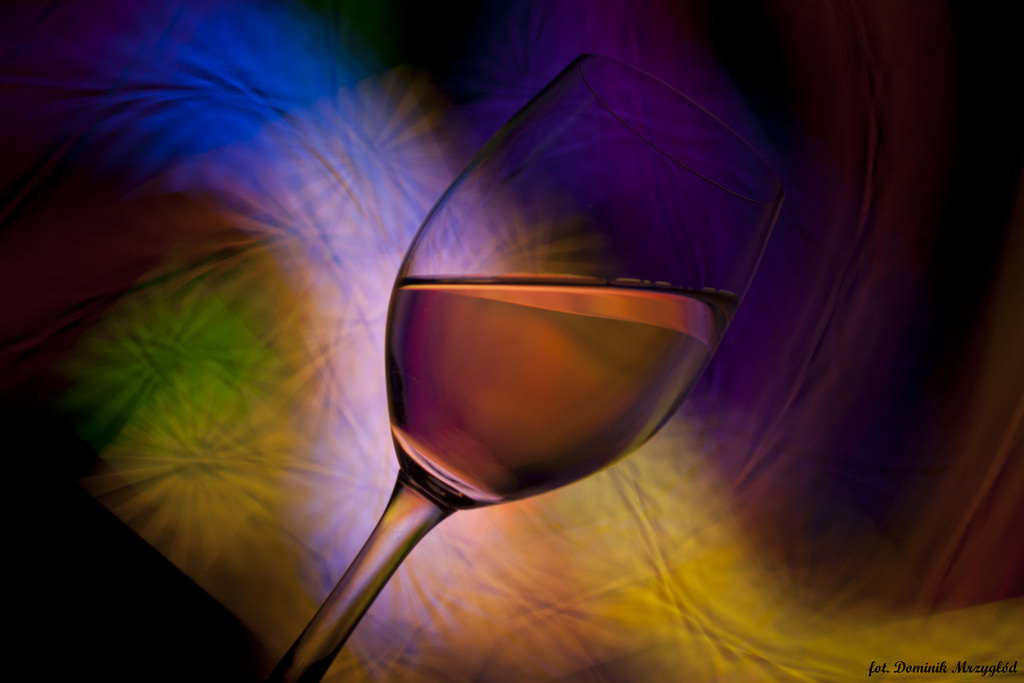glass of water: (362, 41, 794, 489)
